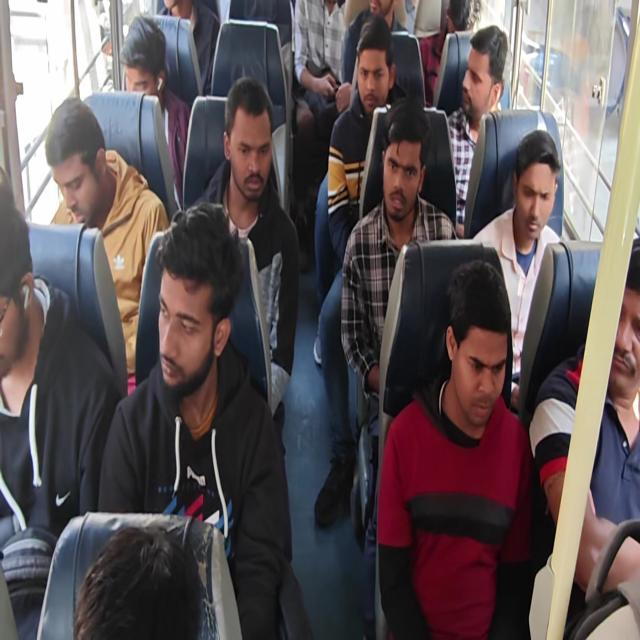person: (1, 2, 638, 638), (96, 201, 301, 638), (340, 98, 458, 637), (376, 258, 535, 638), (0, 198, 122, 638), (313, 14, 407, 526), (528, 236, 640, 621), (191, 76, 300, 456), (44, 96, 170, 395), (471, 128, 563, 411), (326, 14, 407, 264), (73, 523, 203, 639), (119, 14, 191, 211), (445, 24, 508, 237), (292, 0, 348, 221), (417, 0, 480, 106), (341, 0, 409, 91), (159, 0, 220, 95)
